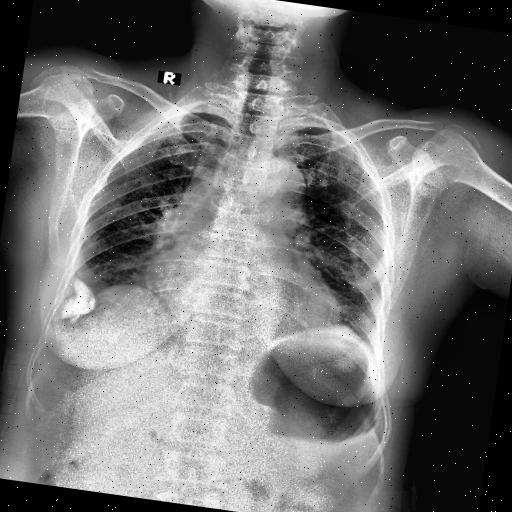0- Aortic enlargement: (242, 152, 312, 227), (250, 155, 314, 231), (252, 158, 313, 226)
2- Calcification: (59, 276, 101, 324), (62, 276, 100, 324)
3- Cardiomegaly: (140, 252, 347, 334), (142, 252, 346, 332), (140, 268, 346, 342)
9- Other lesion: (52, 271, 100, 325)
